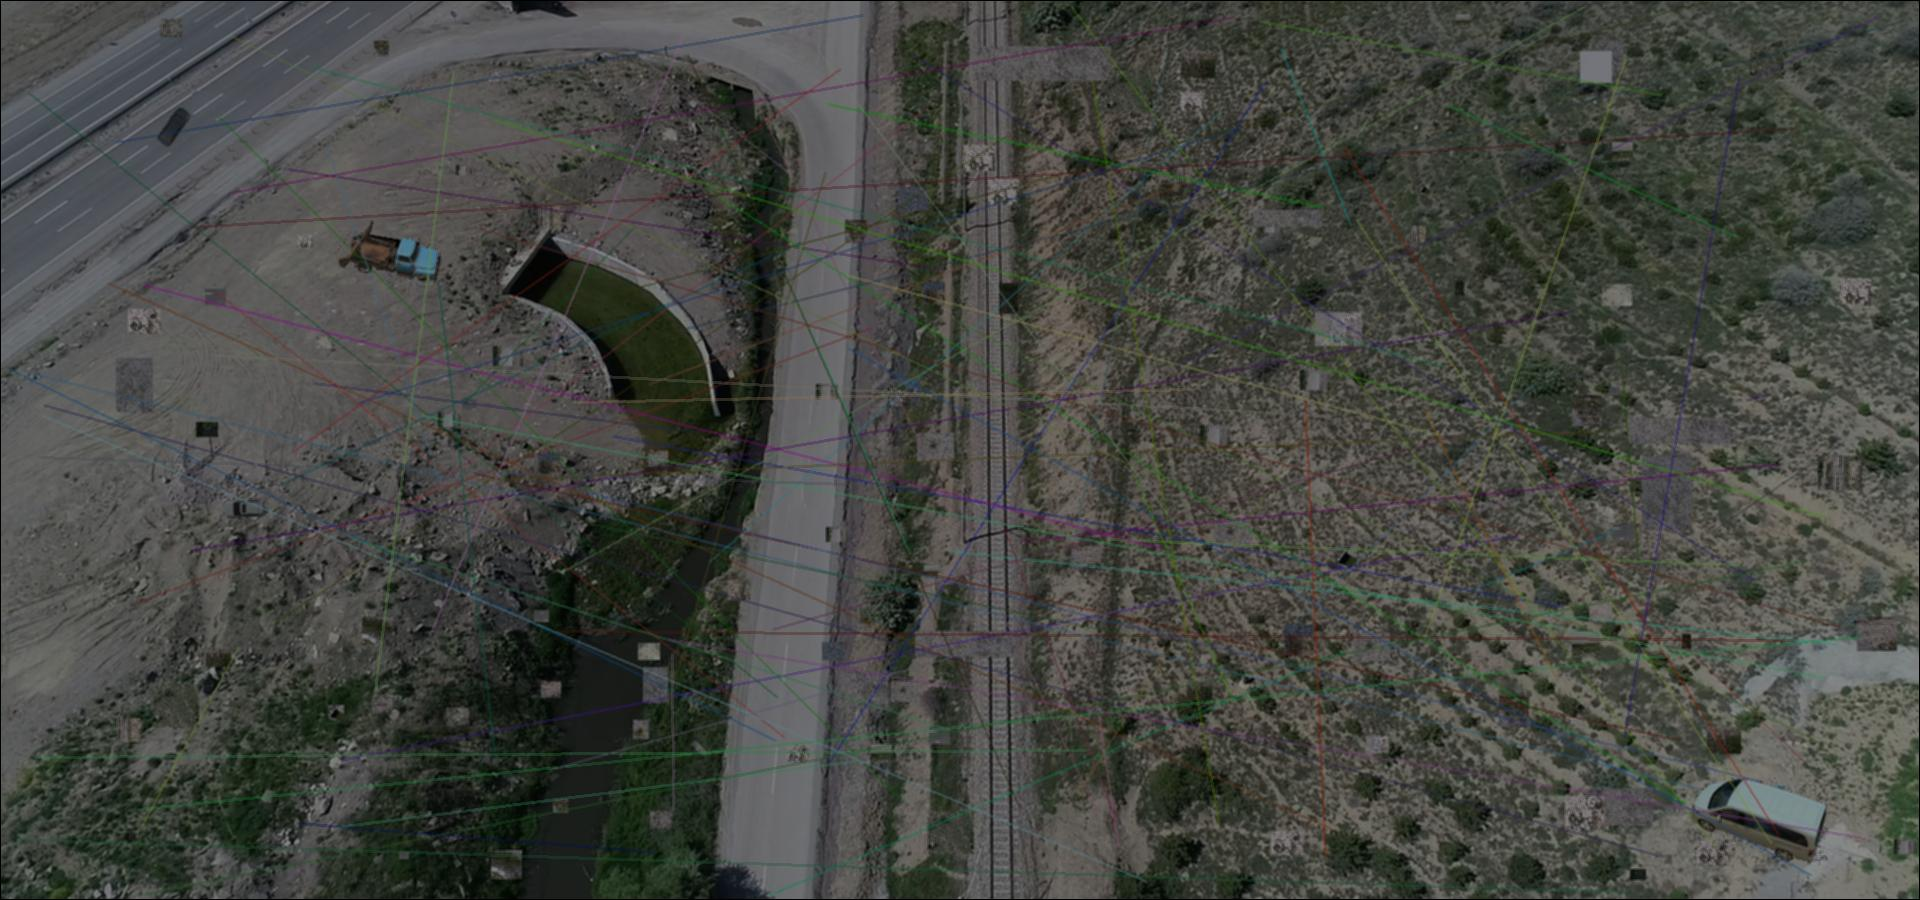arac: (1692, 778, 1827, 866), (334, 218, 441, 285), (154, 107, 191, 147), (222, 497, 267, 519)
